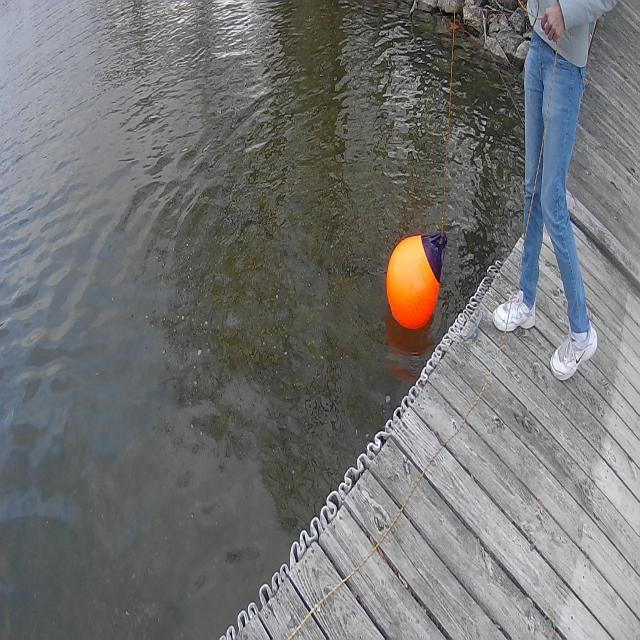Buoy: (377, 215, 450, 337)
